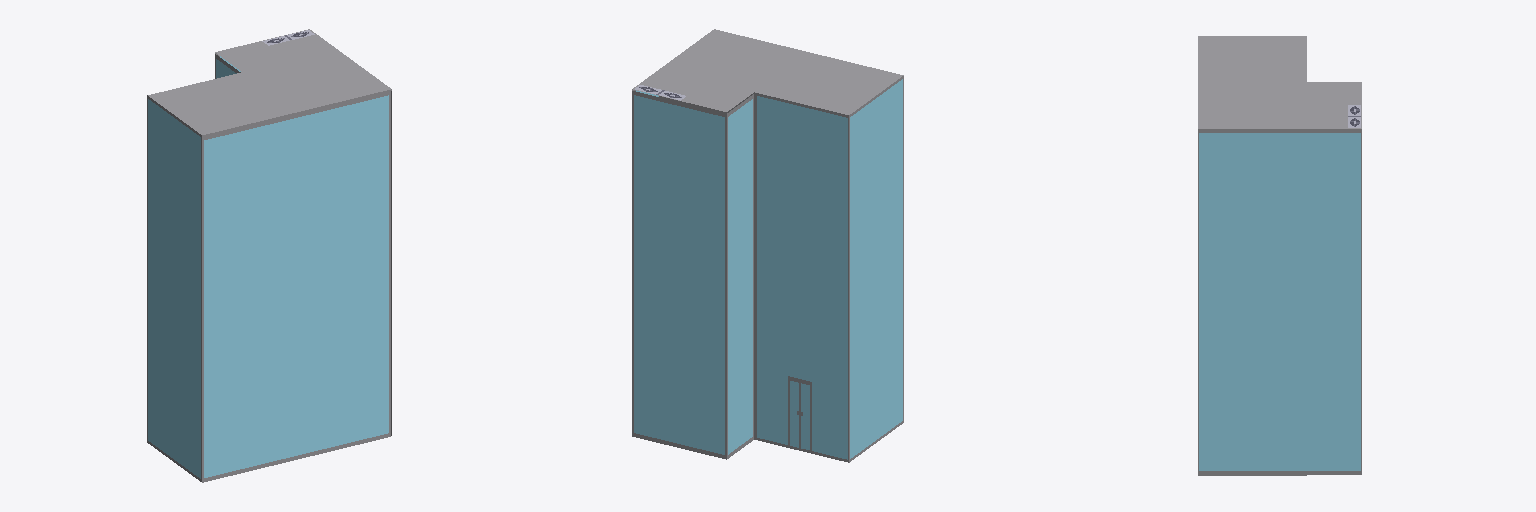
The picture shows the model from 3 angles: view 1: azimuth 30°, elevation 25°; view 2: azimuth 150°, elevation 25°; view 3: azimuth 270°, elevation 25°; orthographic projection.
Parts seen in each view (by area): view 1: building3a; view 2: building3a; view 3: building3a.
Boxes of the visible parts, x1,y1,x2,y2 form: building3a: [147, 29, 391, 482]; building3a: [632, 29, 903, 462]; building3a: [1198, 36, 1361, 475].
Bounding box in the file's own units: 40 × 70 × 30.
Materials: 1 (1 with a texture image).